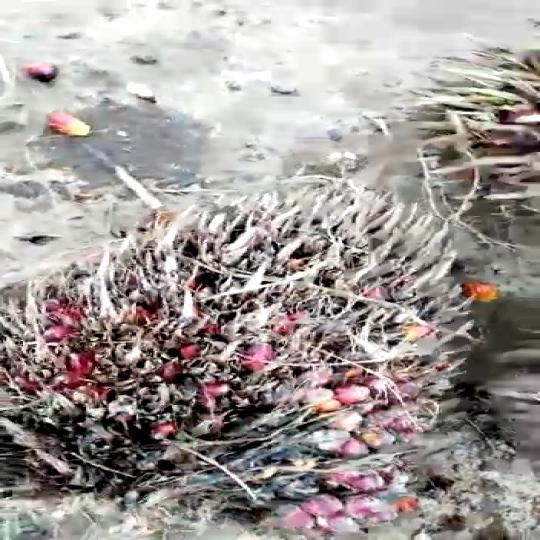terlalu masak: (0, 154, 540, 540)
